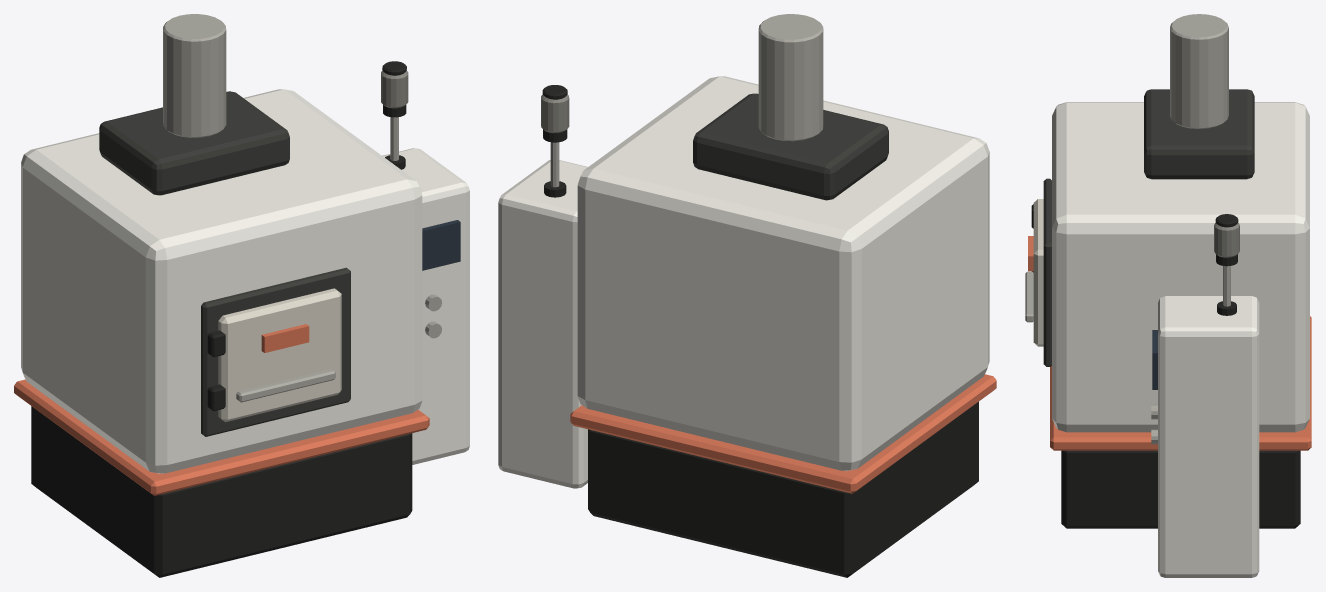
File: furnace.glb
3 views of the same model, side by side, from view 1: azimuth 30°, elevation 25°; view 2: azimuth 150°, elevation 25°; view 3: azimuth 270°, elevation 25° (orthographic). The views are drawn at different scales.
Parts seen in each view (by area): view 1: furnace_parts, glow_window; view 2: furnace_parts; view 3: furnace_parts.
Part boxes in pixels (bbox=[...]): furnace_parts: bbox=[14, 14, 469, 577]; glow_window: bbox=[261, 324, 309, 352]; furnace_parts: bbox=[498, 14, 996, 577]; furnace_parts: bbox=[1025, 14, 1311, 577].
Bounding box in the file's own units: 2.2 × 2.63 × 1.56.
